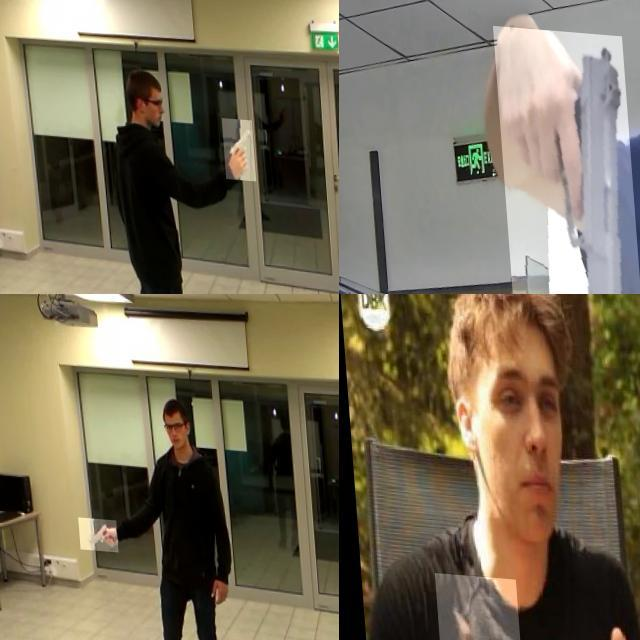-: (429, 571, 522, 640)
gun-knife-thesis - v11 Yolov5 augmented: (488, 22, 637, 294), (217, 112, 251, 175), (73, 515, 113, 550)
